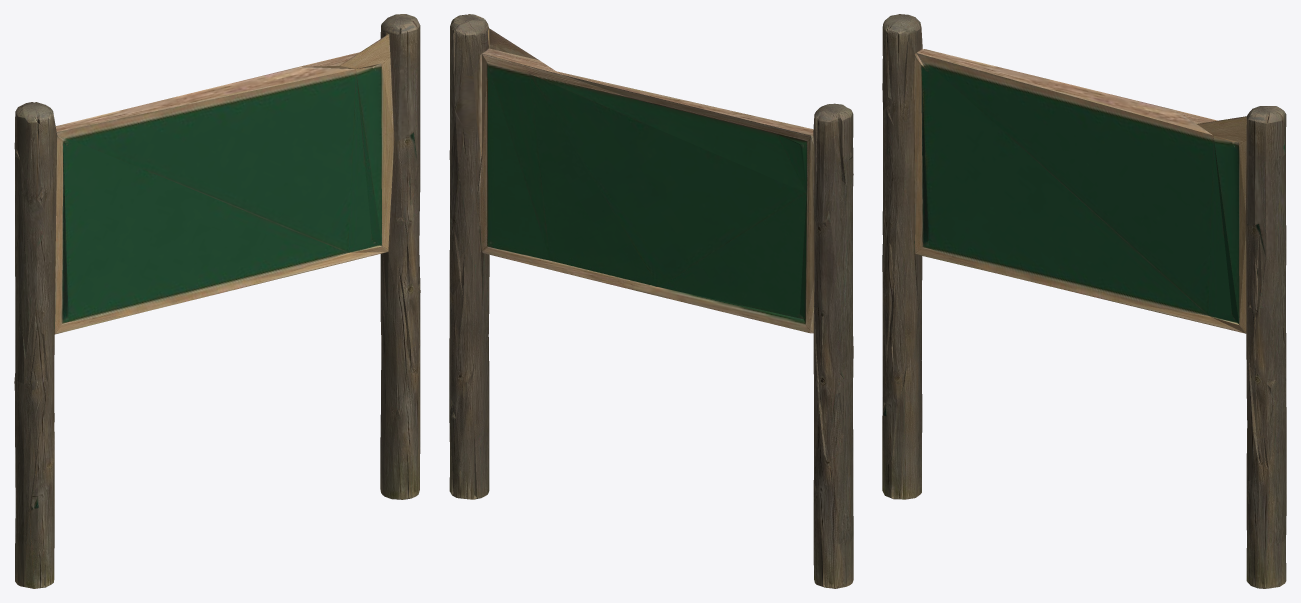
Rendered from doc_board.glb.
The picture shows the model from 3 angles, left to right: view 1: azimuth 30°, elevation 25°; view 2: azimuth 150°, elevation 25°; view 3: azimuth 330°, elevation 25°; orthographic projection.
Visible parts, largest first — view 1: ground; view 2: ground; view 3: ground.
Boxes of the visible parts, x1,y1,x2,y2 form: ground: (14, 14, 420, 588); ground: (449, 14, 853, 588); ground: (882, 14, 1286, 588).
Bounding box in the file's own units: 2.2 × 2.48 × 0.2021.
1 material, 1 textured.
